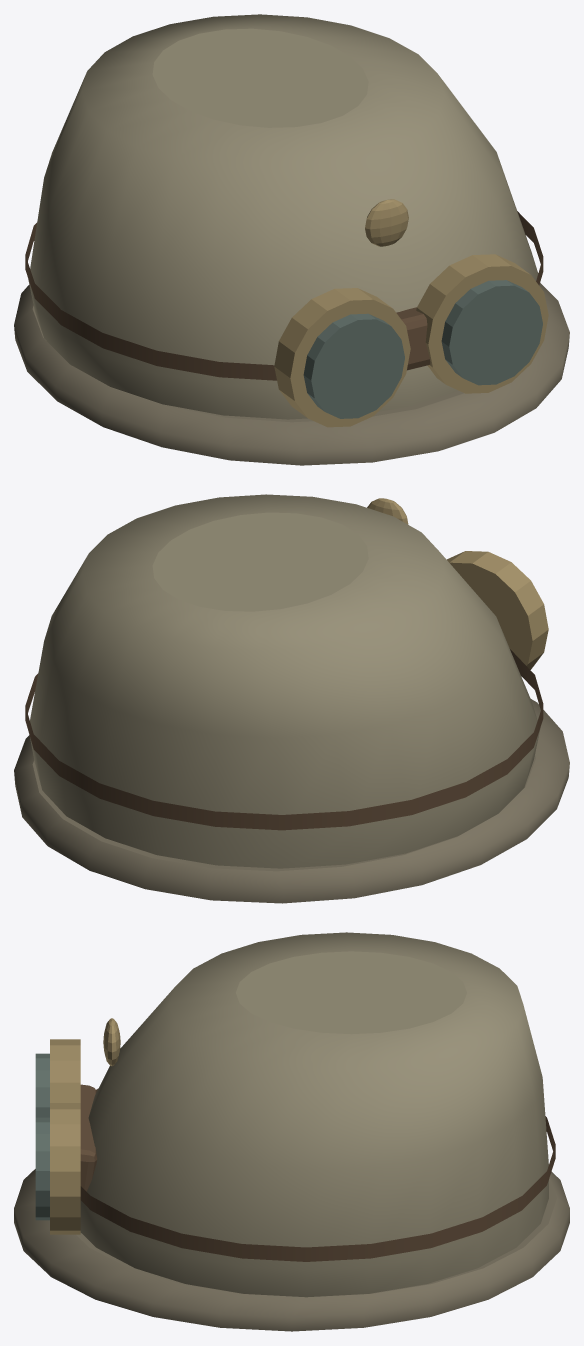
File: OsowiecHeadgear.fbx
3 views of the same model, one above another, from view 1: azimuth 30°, elevation 25°; view 2: azimuth 150°, elevation 25°; view 3: azimuth 270°, elevation 25° (orthographic). The views are drawn at different scales.
Visible parts, largest first — view 1: OsowiecHeadgear; view 2: OsowiecHeadgear; view 3: OsowiecHeadgear.
Boxes of the visible parts, x1=… form: OsowiecHeadgear: x1=14, y1=14, x2=569, y2=465; OsowiecHeadgear: x1=14, y1=494, x2=569, y2=903; OsowiecHeadgear: x1=14, y1=932, x2=569, y2=1331.
Bounding box in the file's own units: 0.322 × 0.158 × 0.346.
